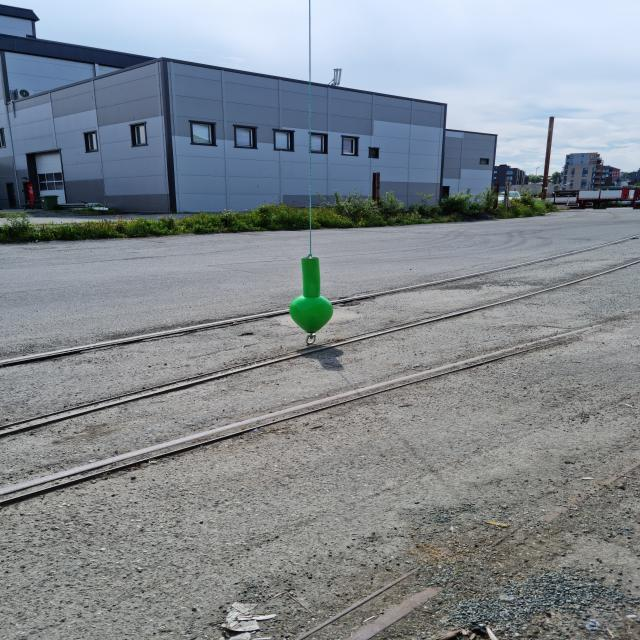green: (289, 257, 333, 333)
